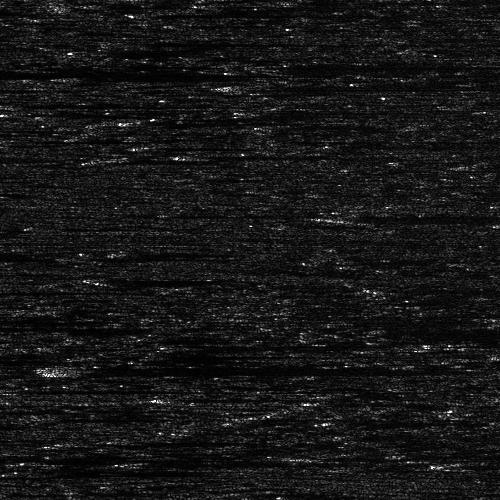object: (191, 81, 296, 90), (22, 362, 85, 375), (412, 458, 475, 467), (88, 38, 171, 43), (163, 153, 226, 158), (0, 469, 63, 474), (82, 276, 123, 283), (114, 249, 167, 254), (0, 405, 35, 412), (114, 459, 155, 464), (163, 395, 194, 400), (0, 387, 25, 392), (336, 214, 377, 217), (55, 76, 96, 79)
shadow: (54, 362, 424, 375), (0, 67, 235, 78), (244, 81, 500, 90), (0, 455, 280, 460), (195, 153, 384, 158), (135, 459, 319, 464), (103, 276, 228, 283), (0, 288, 106, 295), (141, 249, 266, 254), (130, 38, 254, 43), (0, 387, 114, 392), (76, 76, 258, 79), (0, 471, 77, 478), (443, 458, 500, 467), (357, 214, 500, 217), (0, 245, 35, 256), (0, 405, 48, 412), (179, 395, 242, 400), (32, 469, 91, 474), (0, 253, 58, 258)
